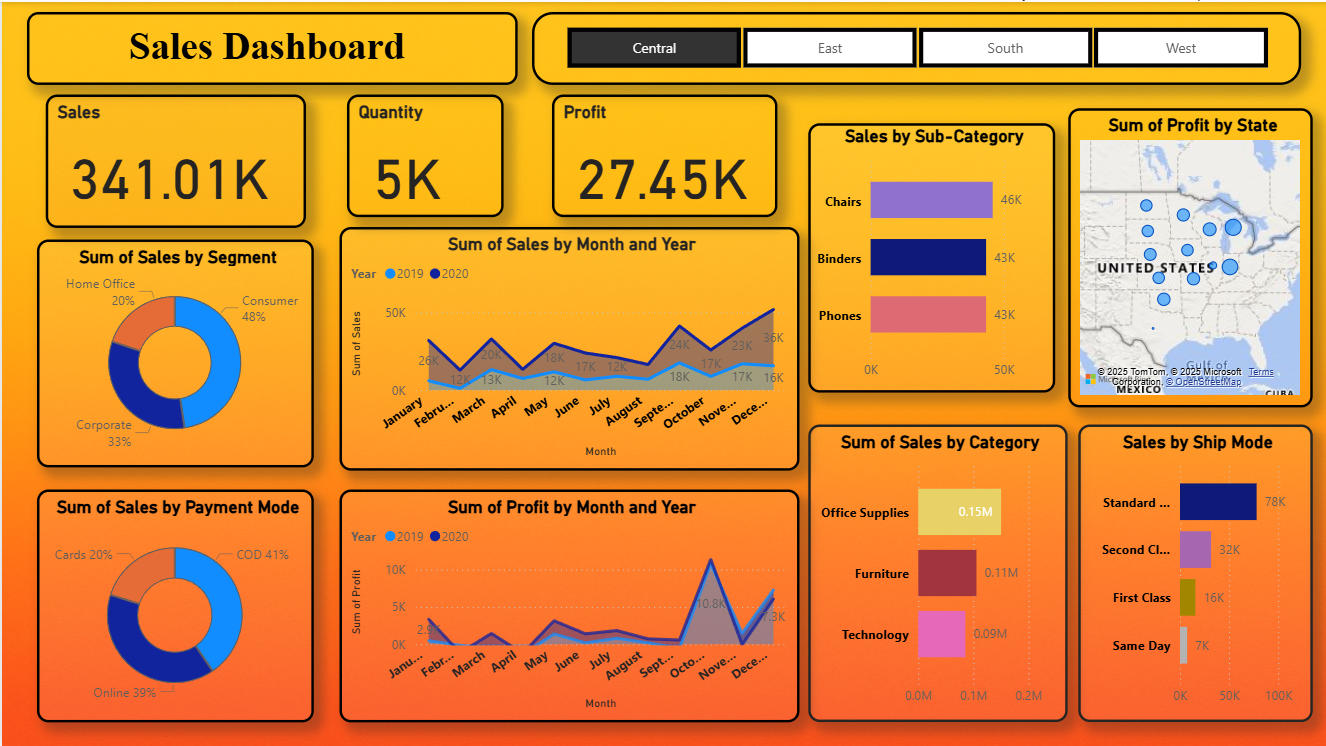

The page's visual inventory and layout, read from the dashboard file:
{"tool":"powerbi","page":{"name":"Page 1","canvas":[1280,720],"ordinal":0},"visuals":[{"type":"barChart","fields":{"Category":["Sheet1.Category"],"Y":["Sum(Sheet1.Sales)"]},"box":[778.8,407.5,250,287.5],"z":0},{"type":"barChart","title":" Sales by Sub-Category","fields":{"Category":["Sheet1.Sub-Category"],"Y":["Sum(Sheet1.Sales)"]},"box":[778.8,117.5,238.8,260],"z":1000},{"type":"barChart","title":" Sales by Ship Mode","fields":{"Category":["Sheet1.Ship Mode"],"Y":["Sum(Sheet1.Sales)"]},"box":[1038.8,407.5,226.2,287.5],"z":2000},{"type":"stackedAreaChart","fields":{"Y":["Sum(Sheet1.Sales)"],"Category":["Sheet1.Order Date.Variation.Date Hierarchy.Month","Sheet1.Order Date.Variation.Date Hierarchy.Day"],"Series":["Sheet1.Order Date.Variation.Date Hierarchy.Year"]},"box":[326.2,217.5,443.8,235],"z":3000},{"type":"stackedAreaChart","fields":{"Category":["Sheet1.Order Date.Variation.Date Hierarchy.Month","Sheet1.Order Date.Variation.Date Hierarchy.Day"],"Series":["Sheet1.Order Date.Variation.Date Hierarchy.Year"],"Y":["Sum(Sheet1.Profit)"]},"box":[326.2,470,443.8,225],"z":4000},{"type":"donutChart","fields":{"Category":["Sheet1.Segment"],"Y":["Sum(Sheet1.Sales)"]},"box":[33.8,228.8,267.5,220],"z":5000},{"type":"slicer","fields":{"Values":["Sheet1.Region"]},"box":[511.2,10,742.5,70],"z":6000},{"type":"textbox","box":[23.8,10,473.8,70],"z":7000},{"type":"map","fields":{"Size":["Sum(Sheet1.Profit)"],"Category":["Sheet1.State"]},"box":[1028.8,102.5,236.2,288.8],"z":8000},{"type":"donutChart","fields":{"Category":["Sheet1.Payment Mode"],"Y":["Sum(Sheet1.Sales)"]},"box":[33.8,470,267.5,225],"z":9000},{"type":"cardVisual","title":"Sales","fields":{"Data":["Sum(Sheet1.Sales)"]},"box":[42.5,88.8,251.2,128.8],"z":10000},{"type":"cardVisual","title":"Quantity","fields":{"Data":["Sum(Sheet1.Quantity)"]},"box":[332.5,88.8,151.2,118.8],"z":11000},{"type":"cardVisual","title":"Profit","fields":{"Data":["Sum(Sheet1.Profit)"]},"box":[531.2,88.8,217.5,118.8],"z":12000}]}

Visuals, with their boxes in screenshot pixels (x1, y1, x2, y2), scaled from the page's 1280x720 canvas onto the 1326x746 screenshot:
barChart - Sheet1.Category x Sum(Sheet1.Sales): bbox=[807, 422, 1066, 720]
" Sales by Sub-Category" barChart: bbox=[807, 122, 1054, 391]
" Sales by Ship Mode" barChart: bbox=[1076, 422, 1310, 720]
stackedAreaChart - Sum(Sheet1.Sales) x Sheet1.Order Date.Variation.Date Hierarchy.Month: bbox=[338, 225, 798, 469]
stackedAreaChart - Sheet1.Order Date.Variation.Date Hierarchy.Month x Sheet1.Order Date.Variation.Date Hierarchy.Day: bbox=[338, 487, 798, 720]
donutChart - Sheet1.Segment x Sum(Sheet1.Sales): bbox=[35, 237, 312, 465]
slicer - Sheet1.Region: bbox=[530, 10, 1299, 83]
textbox: bbox=[25, 10, 515, 83]
map - Sum(Sheet1.Profit) x Sheet1.State: bbox=[1066, 106, 1310, 405]
donutChart - Sheet1.Payment Mode x Sum(Sheet1.Sales): bbox=[35, 487, 312, 720]
"Sales" cardVisual: bbox=[44, 92, 304, 225]
"Quantity" cardVisual: bbox=[344, 92, 501, 215]
"Profit" cardVisual: bbox=[550, 92, 776, 215]
